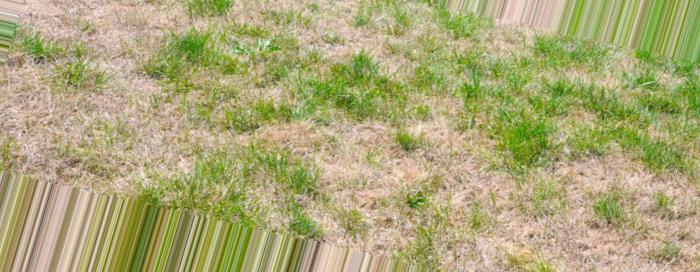patch: (564, 206, 644, 268), (1, 81, 68, 154), (107, 81, 173, 150), (102, 5, 164, 54), (328, 145, 377, 197), (43, 1, 82, 50), (318, 9, 357, 42)
